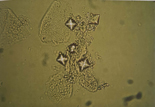Crystal: (54, 50, 70, 69), (76, 54, 91, 73), (88, 9, 101, 28), (64, 16, 80, 31), (67, 41, 79, 54)
